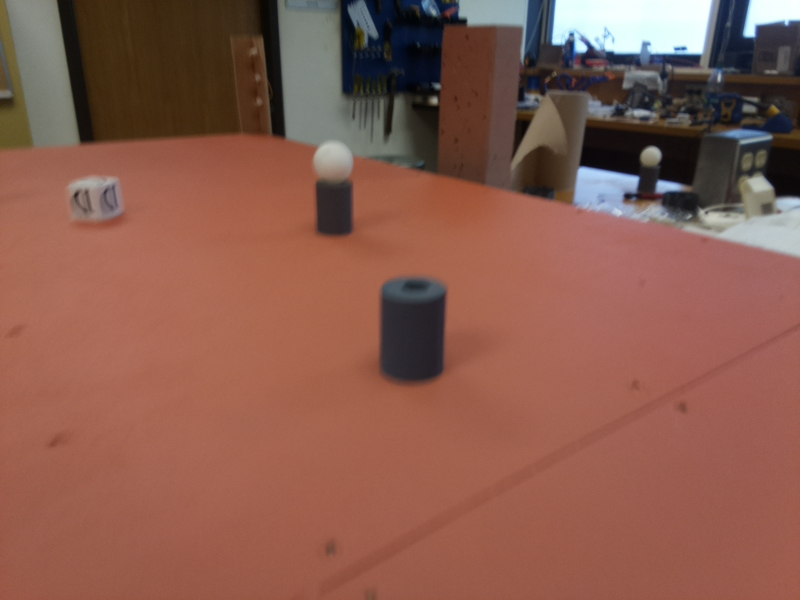blockD: (69, 171, 126, 229)
corner: (233, 33, 272, 136)
obstacle: (381, 268, 447, 385), (314, 139, 358, 232)
